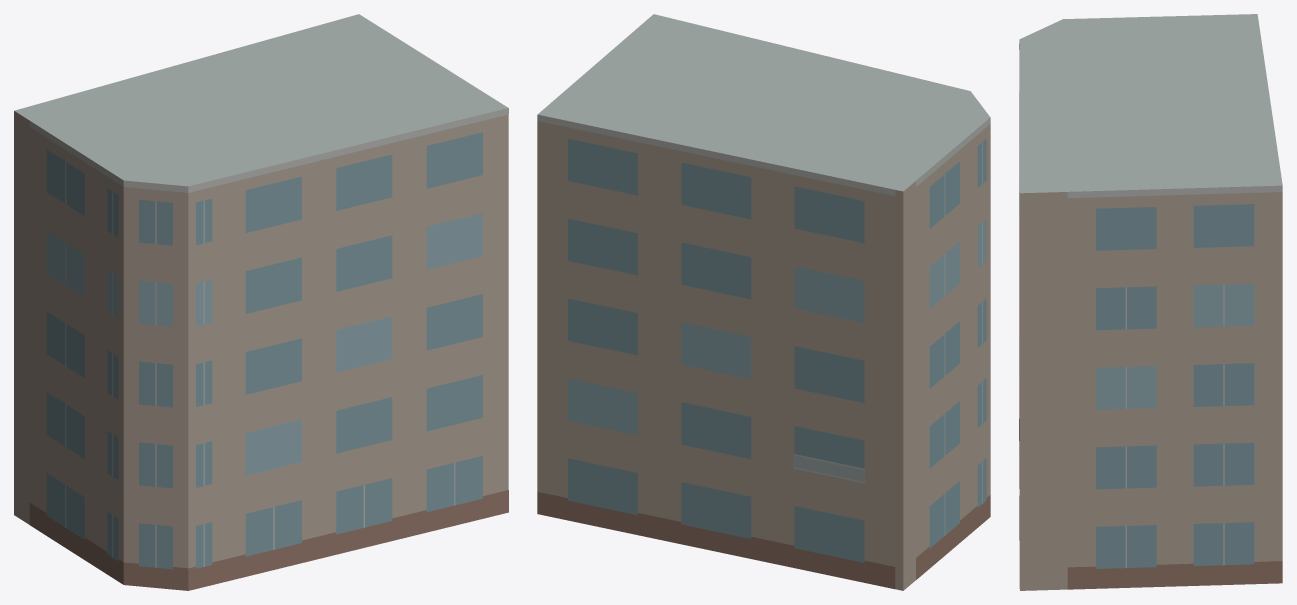
File: survey-upis-32749184.glb
The picture shows the model from 3 angles, left to right: view 1: azimuth 30°, elevation 25°; view 2: azimuth 150°, elevation 25°; view 3: azimuth 270°, elevation 25°; orthographic projection.
Parts seen in each view (by area): view 1: survey-upis-32749184.tmp; view 2: survey-upis-32749184.tmp; view 3: survey-upis-32749184.tmp.
Part boxes in pixels (<box>): survey-upis-32749184.tmp: <box>14,14,508,590</box>; survey-upis-32749184.tmp: <box>537,14,990,590</box>; survey-upis-32749184.tmp: <box>1019,14,1282,590</box>.
Bounding box in the file's own units: 14.79 × 15.3 × 9.2.
